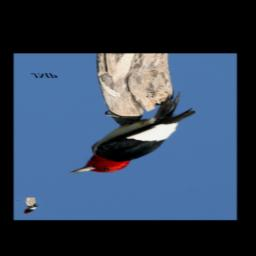Woodpecker: (65, 91, 201, 174)
